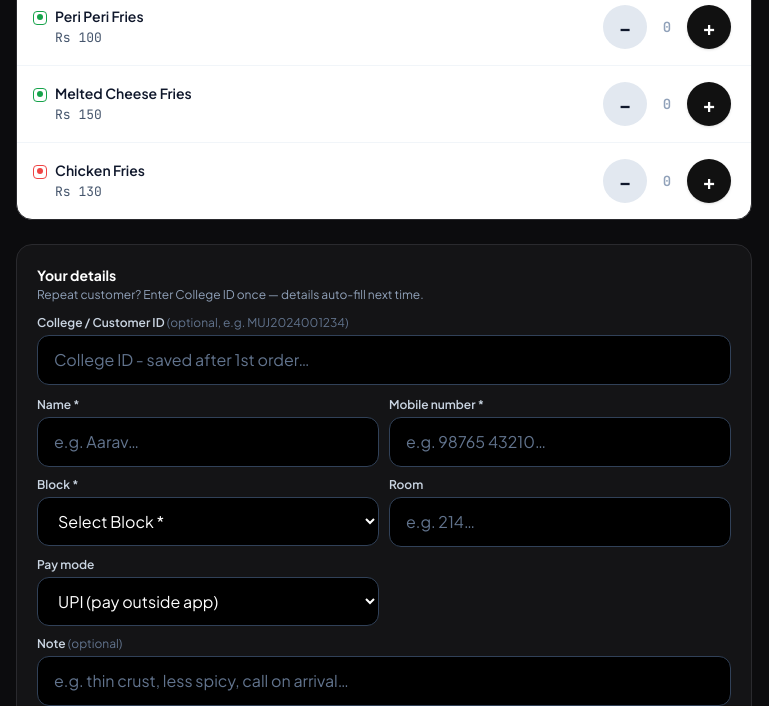
Scenario: ZeroDegreeCustomerView - College ID + mobile friendly › auto-fills Name + Block when a saved College ID is typed
The image size is (769, 706).
(page scrolled)
Type "MUJ2024001234" into the field with placeholder "College ID - saved after 1st order…" at {"x": 384, "y": 360}, box [37,335,731,385]
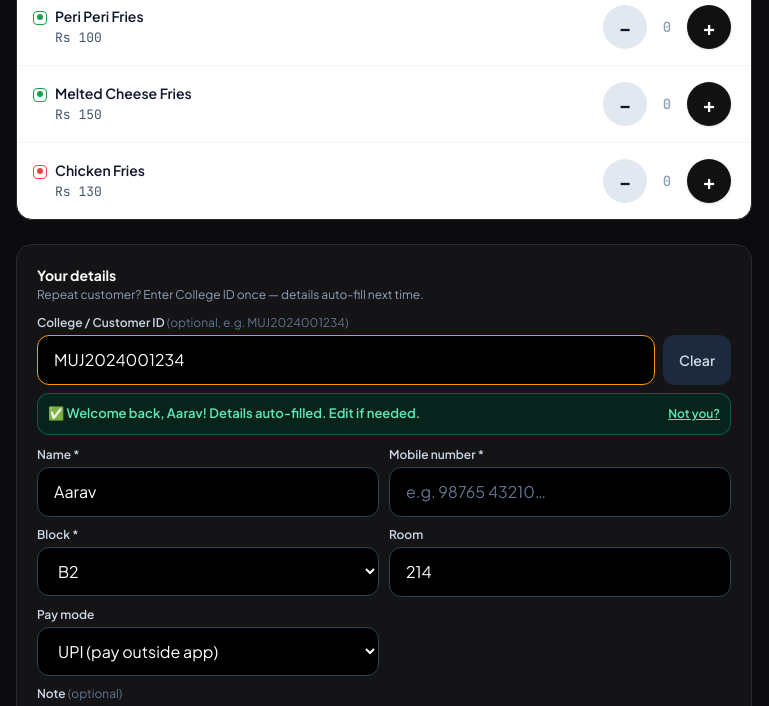
Expected: the text "✅ Welcome back, Aarav! Details auto-filled. Edit if needed." is shown, [48,404,420,424]
Expected: the field with placeholder "e.g. Aarav…" holds "Aarav", [37,467,379,517]
